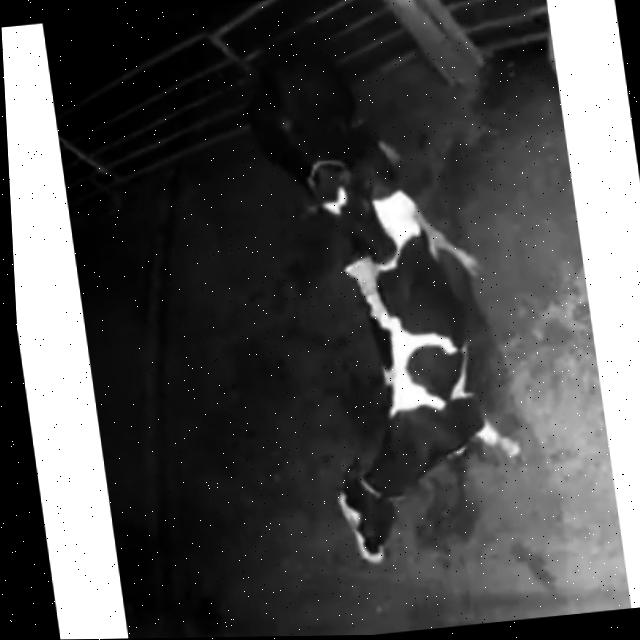propping: (272, 126, 447, 327)
